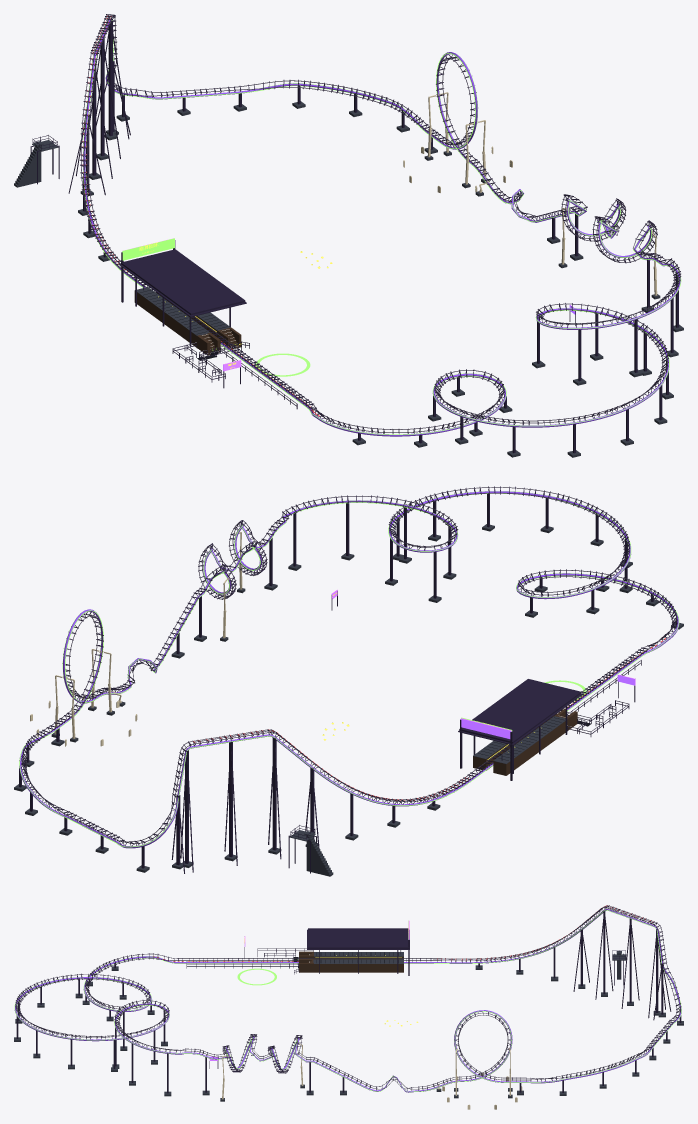
File: roller_coaster.glb
The picture shows the model from 3 angles, top to bottom: view 1: azimuth 30°, elevation 25°; view 2: azimuth 150°, elevation 25°; view 3: azimuth 270°, elevation 25°; orthographic projection. The views are drawn at different scales.
Visible parts, largest first — view 1: NL_Track_steel, NL_Track_column, NL_Track_spine, NL_Track_rail, NL_Roof, NL_Track_phos, NL_Track_foot, NL_PlatTop, NL_Plat, NL_Track_bone; view 2: NL_Track_steel, NL_Track_column, NL_Track_spine, NL_Track_rail, NL_Roof, NL_Track_phos, NL_Track_foot, NL_PlatTop, NL_Plat, NL_Track_bone, NL_Sign; view 3: NL_Track_steel, NL_Track_spine, NL_Track_rail, NL_Track_column, NL_Roof, NL_Track_phos, NL_Track_foot, NL_Plat, NL_PlatTop, NL_Track_bone.
Part boxes in pixels (<box>): NL_Track_steel: <box>31,14,681,433</box>; NL_Track_column: <box>30,20,678,453</box>; NL_Track_spine: <box>83,19,680,436</box>; NL_Track_rail: <box>81,14,680,432</box>; NL_Roof: <box>119,249,246,317</box>; NL_Track_phos: <box>83,20,681,434</box>; NL_Track_foot: <box>78,101,683,457</box>; NL_PlatTop: <box>14,140,230,335</box>; NL_Plat: <box>134,291,241,355</box>; NL_Track_bone: <box>403,92,657,295</box>; NL_Track_steel: <box>21,486,677,846</box>; NL_Track_column: <box>19,493,676,873</box>; NL_Track_spine: <box>19,491,679,848</box>; NL_Track_rail: <box>22,487,676,843</box>; NL_Roof: <box>458,679,582,745</box>; NL_Track_phos: <box>19,491,679,847</box>; NL_Track_foot: <box>14,524,683,872</box>; NL_PlatTop: <box>289,716,567,876</box>; NL_Plat: <box>473,708,577,775</box>; NL_Track_bone: <box>30,532,242,746</box>; NL_Sign: <box>331,589,635,738</box>; NL_Track_steel: <box>15,905,681,1090</box>; NL_Track_spine: <box>14,909,681,1092</box>; NL_Track_rail: <box>16,905,680,1089</box>; NL_Track_column: <box>16,911,681,1093</box>; NL_Roof: <box>307,928,409,949</box>; NL_Track_phos: <box>14,910,681,1092</box>; NL_Track_foot: <box>14,965,683,1101</box>; NL_Plat: <box>299,951,403,972</box>; NL_PlatTop: <box>313,951,626,979</box>; NL_Track_bone: <box>222,1043,522,1109</box>.
Bounding box in the file's own units: 90.17 × 24.18 × 162.
